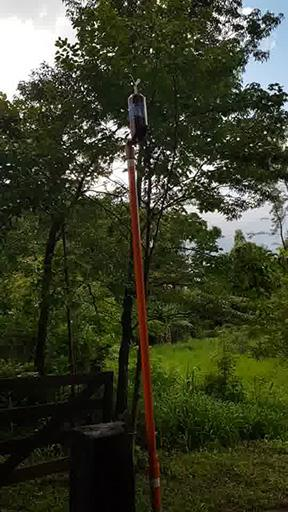Detector_Tensao_Contato: (128, 76, 148, 141)
Vara_Manobra: (123, 142, 160, 512)
